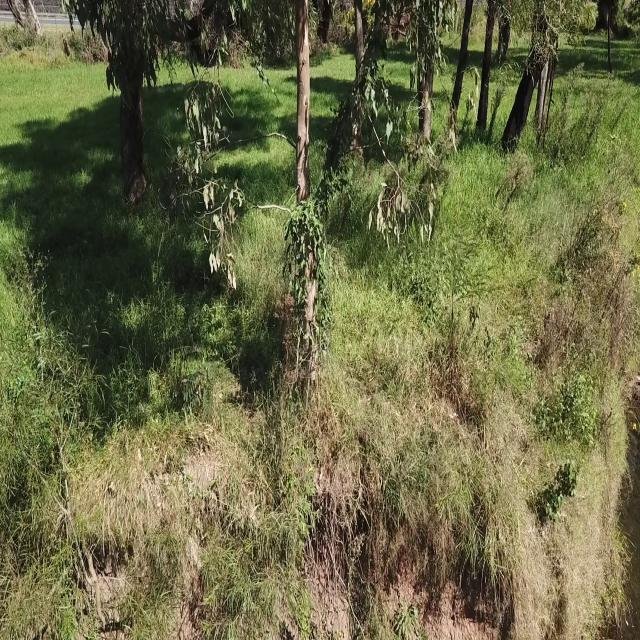Mysore-Thorn-Weed: (168, 300, 242, 426)
